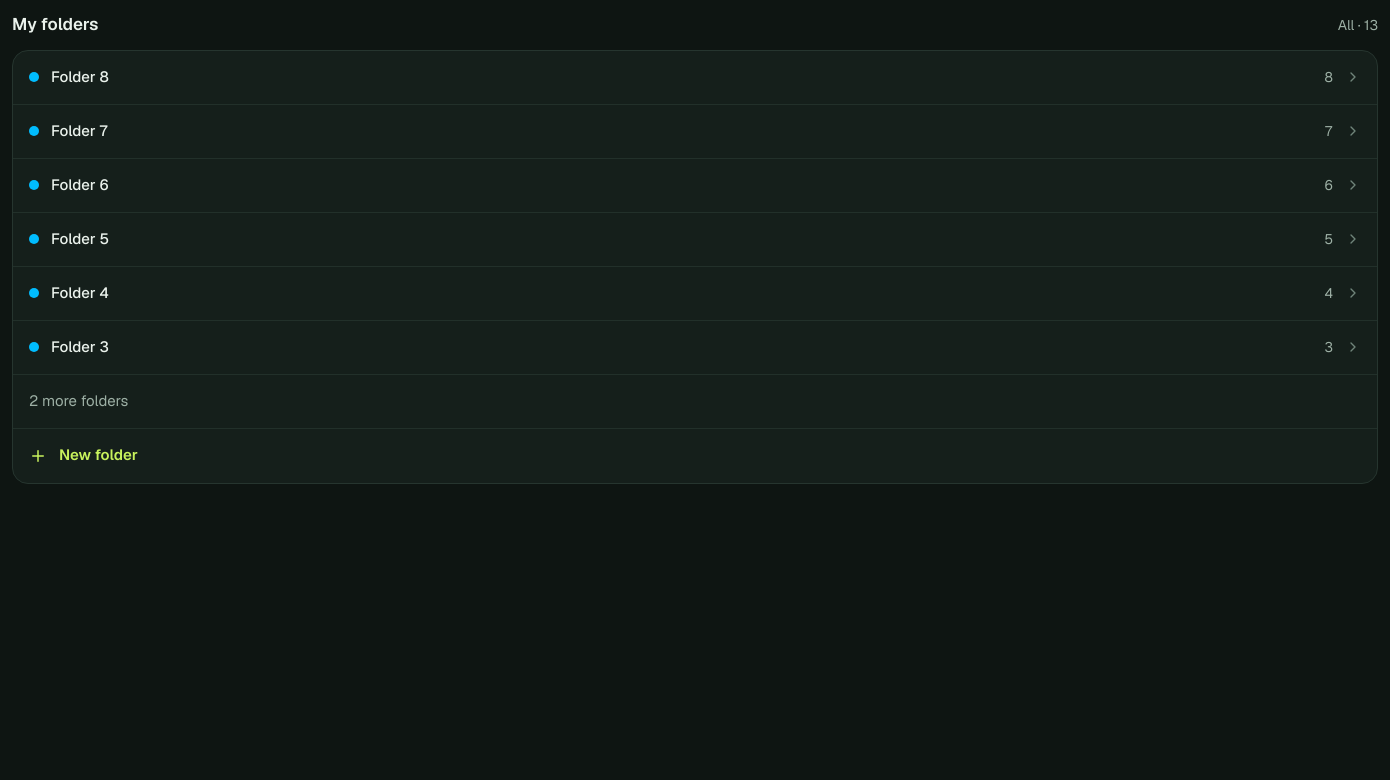
FolderList › 8 folders: 6 rows and "2 more folders"; clicking it shows all of them
Expected: the text "Folder 8" is shown, left=51, top=67, right=109, bottom=86
Expected: the text "Folder 1" is not shown
Step 1. Click the button "2 more folders" → click(79, 400), box left=13, top=374, right=1377, bottom=428
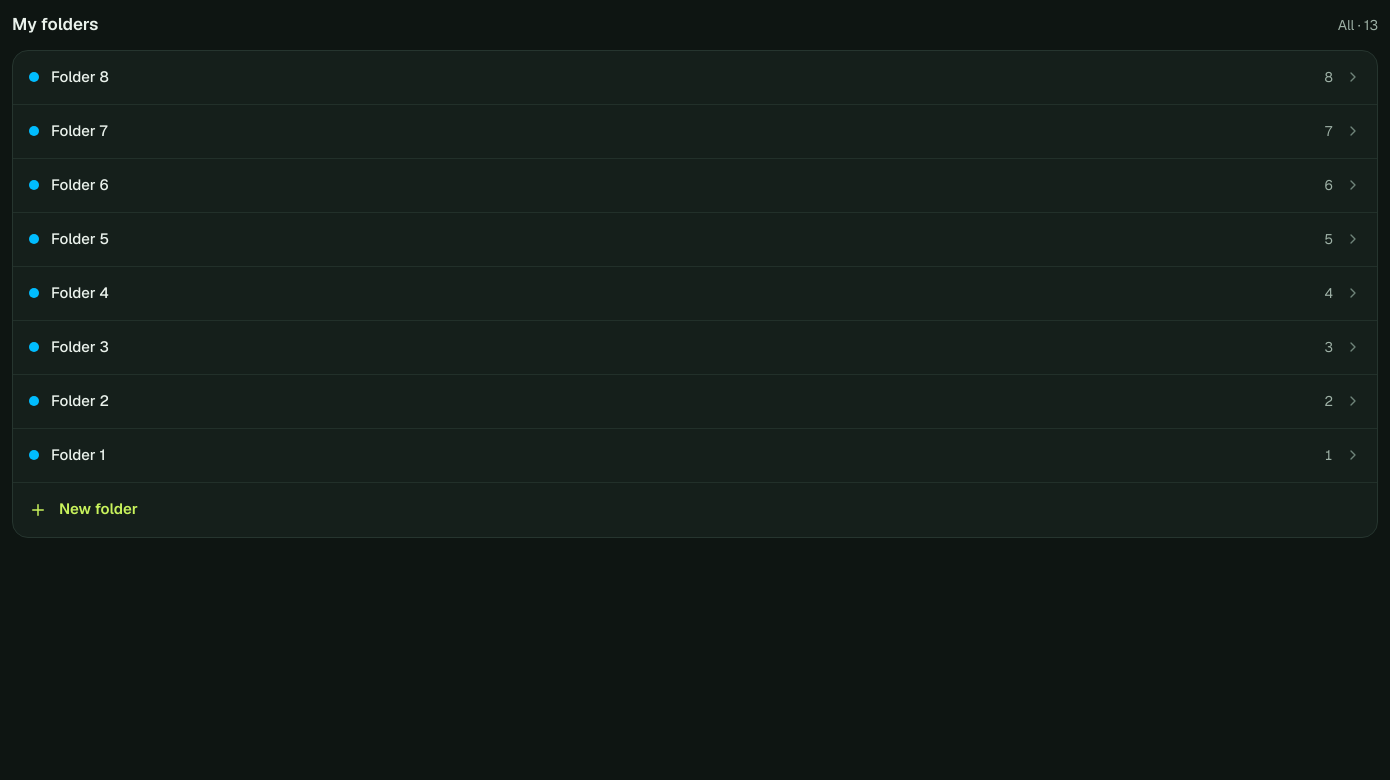
Result: the text "Folder 1" is shown at left=51, top=445, right=106, bottom=464
Result: the button "more folders?" is gone
